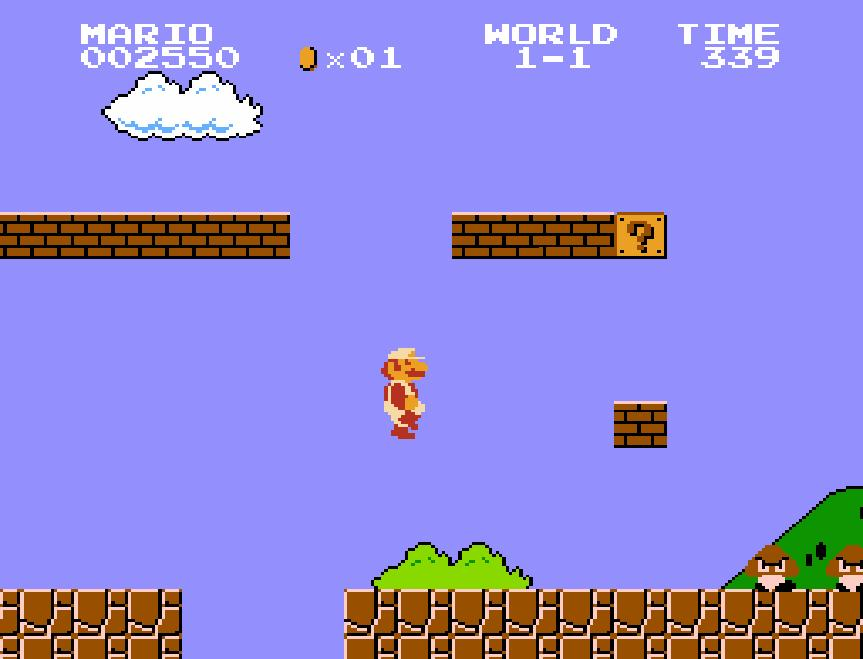fire_mario: (376, 342, 434, 440)
